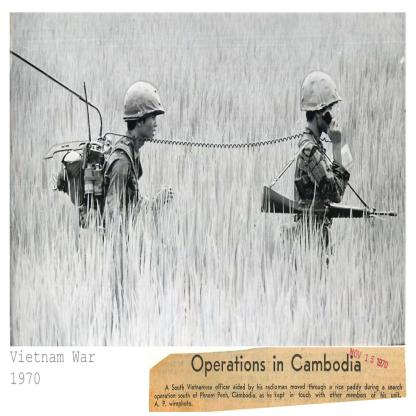Helmet: (298, 73, 344, 138), (125, 80, 164, 123)
